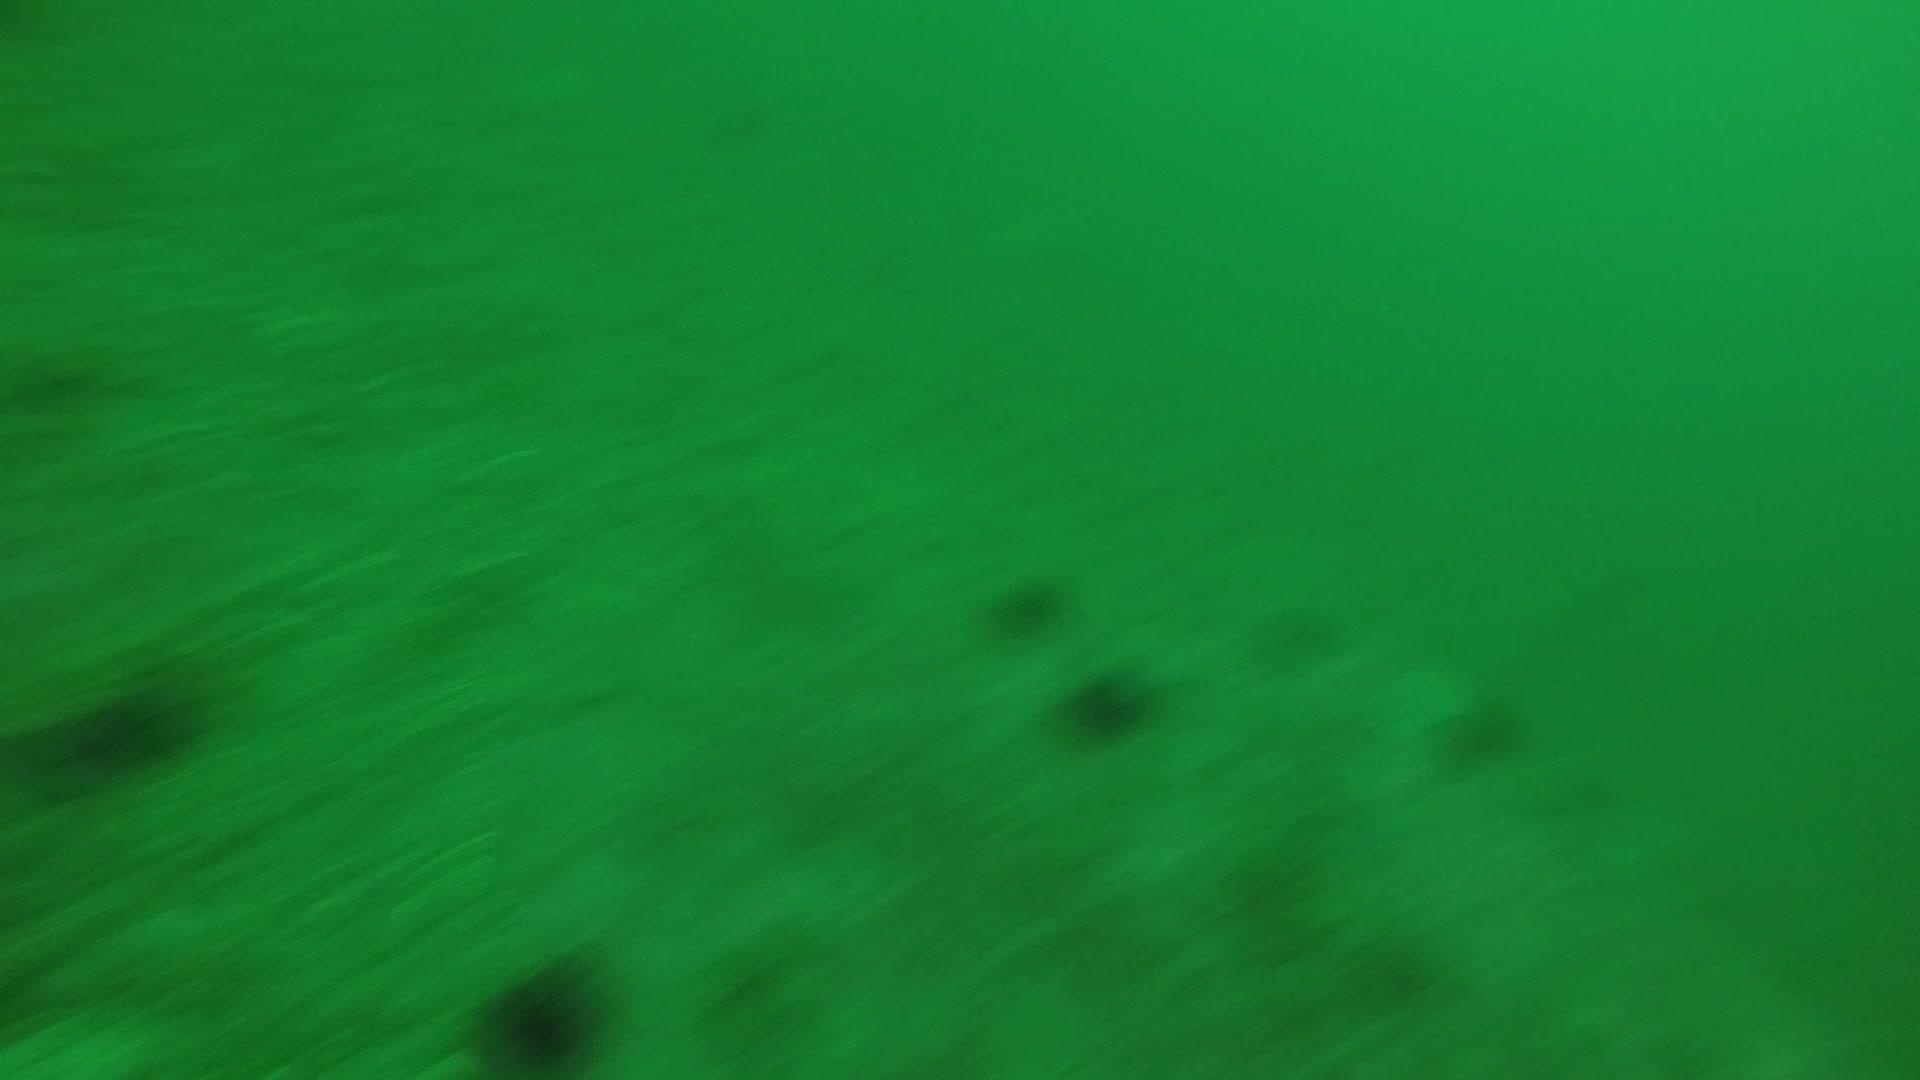echinus: (472, 949, 611, 1071), (46, 676, 200, 775), (1058, 659, 1159, 745), (1432, 684, 1534, 770), (982, 566, 1072, 640)
